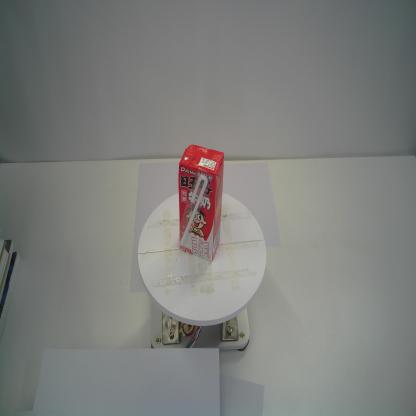Milk: (178, 142, 226, 263)
